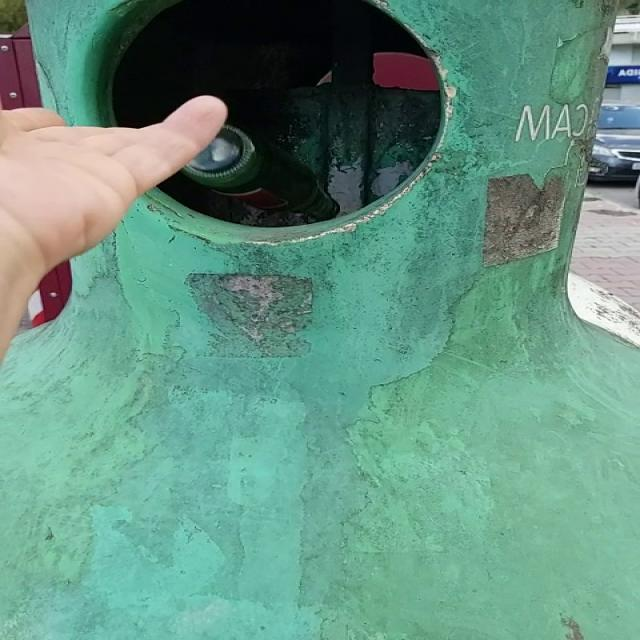Glass: (181, 124, 339, 221)
